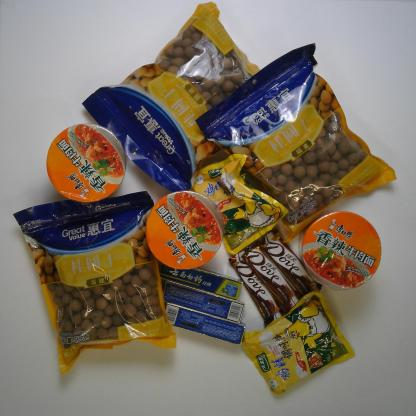Chocolate: (240, 241, 305, 316), (227, 245, 287, 326), (258, 227, 323, 301)
Dried Food: (194, 42, 398, 244), (81, 1, 270, 193), (11, 190, 178, 376)
Instant Noodles: (299, 210, 384, 294), (45, 122, 127, 204), (144, 189, 225, 272)
Personal Hygiene: (160, 280, 245, 326), (154, 258, 243, 301), (163, 300, 247, 345)
Seasoner: (240, 288, 356, 395), (187, 152, 289, 256)
